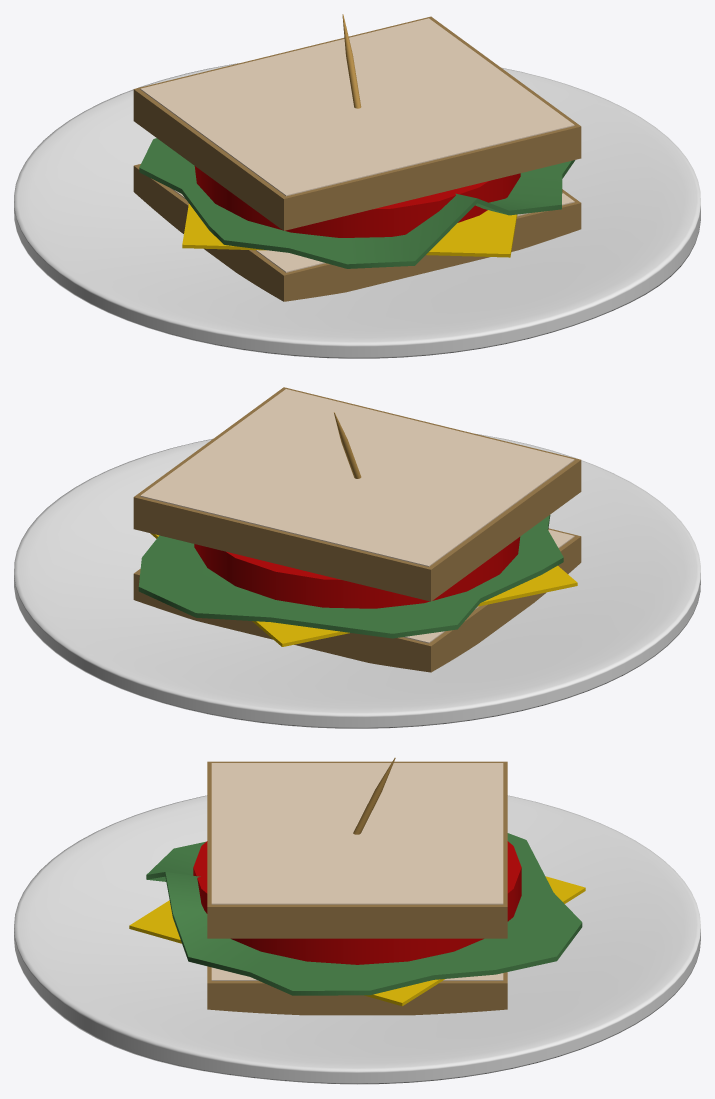
Rendered from sandwich.fbx.
3 views of the same model, one above another, from view 1: azimuth 30°, elevation 25°; view 2: azimuth 150°, elevation 25°; view 3: azimuth 270°, elevation 25° (orthographic).
Parts seen in each view (by area): view 1: group_pasted__pCube1, pCylinder3; view 2: group_pasted__pCube1, pCylinder3; view 3: group_pasted__pCube1, pCylinder3.
Part boxes in pixels (x1,y1,x2,y2): group_pasted__pCube1: (133,14,581,301); pCylinder3: (14,63,700,358); group_pasted__pCube1: (133,387,581,672); pCylinder3: (14,433,700,728); group_pasted__pCube1: (129,757,585,1015); pCylinder3: (14,795,700,1084).
Bounding box in the file's own units: 14.8 × 5.01 × 14.8.
